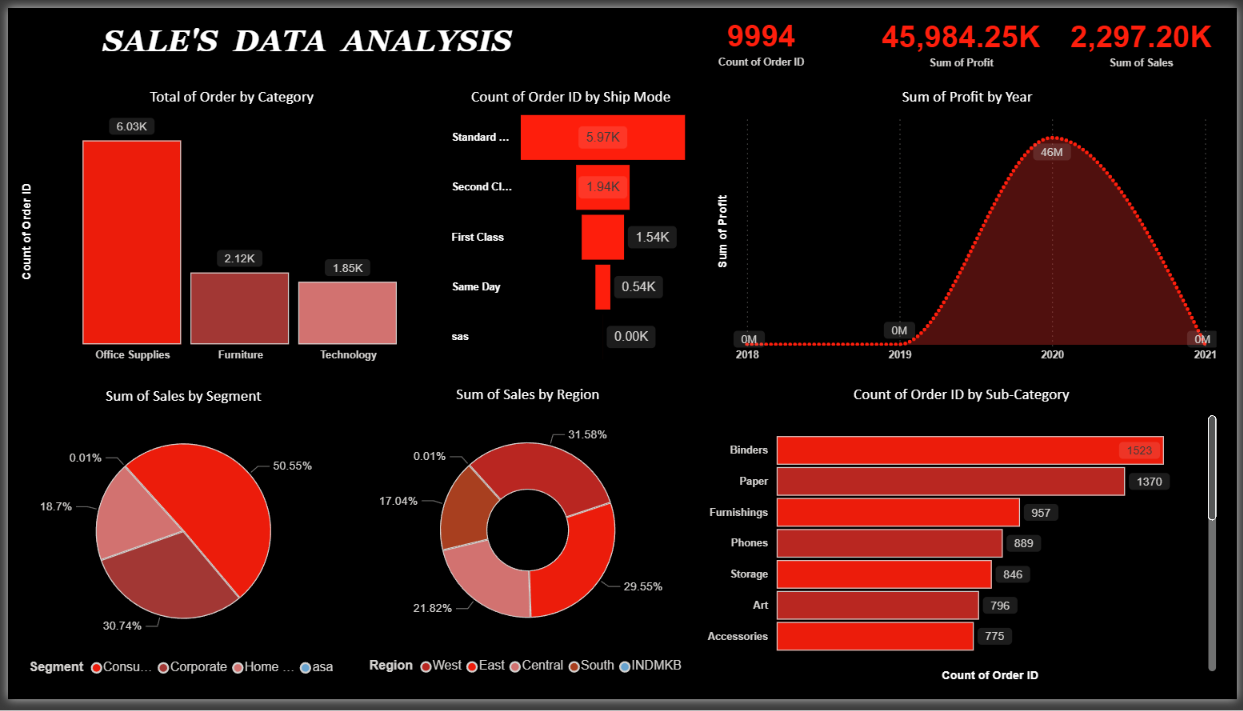

What the dashboard file says about the page in this screenshot:
{"tool":"powerbi","page":{"name":"Page 1","canvas":[1280,720],"ordinal":0},"visuals":[{"type":"textbox","box":[20.9,10.5,601.2,48.8],"z":0},{"type":"columnChart","title":"Total of Order by Category","fields":{"Y":["CountNonNull(Orders (2).Order ID)"],"Category":["Orders (2).Category"]},"box":[9.3,82.6,447.7,294.2],"z":1000},{"type":"pieChart","fields":{"Y":["Sum(Orders (2).Sales)"],"Category":["Orders (2).Segment"]},"box":[9.6,393.8,347.2,312.9],"z":2000},{"type":"donutChart","fields":{"Category":["Orders (2).Region"],"Y":["Sum(Orders (2).Sales)"]},"box":[367.4,393,347.7,312.8],"z":3000},{"type":"barChart","fields":{"Category":["Orders (2).Sub-Category"],"Y":["CountNonNull(Orders (2).Order ID)"]},"box":[723.3,393,540.7,314],"z":4000},{"type":"lineChart","fields":{"Y":["Sum(Orders (2).Profit)"],"Category":["Orders (2).Order Date.Variation.Date Hierarchy.Year"]},"box":[734,82.1,529.7,294.6],"z":5000},{"type":"funnel","fields":{"Category":["Orders (2).Ship Mode"],"Y":["CountNonNull(Orders (2).Order ID)"]},"box":[457,82.6,258.1,294.2],"z":6000},{"type":"card","fields":{"Values":["Sum(Orders (2).Sales)"]},"box":[1096.5,2.3,167.4,66.3],"z":7000},{"type":"card","fields":{"Values":["Sum(Orders (2).Profit)"]},"box":[904.7,1.2,177.9,68.6],"z":8000},{"type":"card","fields":{"Values":["CountNonNull(Orders (2).Order ID)"]},"box":[689.5,0,190.7,68.6],"z":9000}]}

Visuals, with their boxes in screenshot pixels (x1, y1, x2, y2), scaled from the page's 1280x720 canvas onto the 1243x711 screenshot:
textbox: 20,10,604,59
"Total of Order by Category" columnChart: 9,82,444,372
pieChart - Sum(Orders (2).Sales) x Orders (2).Segment: 9,389,346,698
donutChart - Orders (2).Region x Sum(Orders (2).Sales): 357,388,694,697
barChart - Orders (2).Sub-Category x CountNonNull(Orders (2).Order ID): 702,388,1227,698
lineChart - Sum(Orders (2).Profit) x Orders (2).Order Date.Variation.Date Hierarchy.Year: 713,81,1227,372
funnel - Orders (2).Ship Mode x CountNonNull(Orders (2).Order ID): 444,82,694,372
card - Sum(Orders (2).Sales): 1065,2,1227,68
card - Sum(Orders (2).Profit): 879,1,1051,69
card - CountNonNull(Orders (2).Order ID): 670,0,855,68
